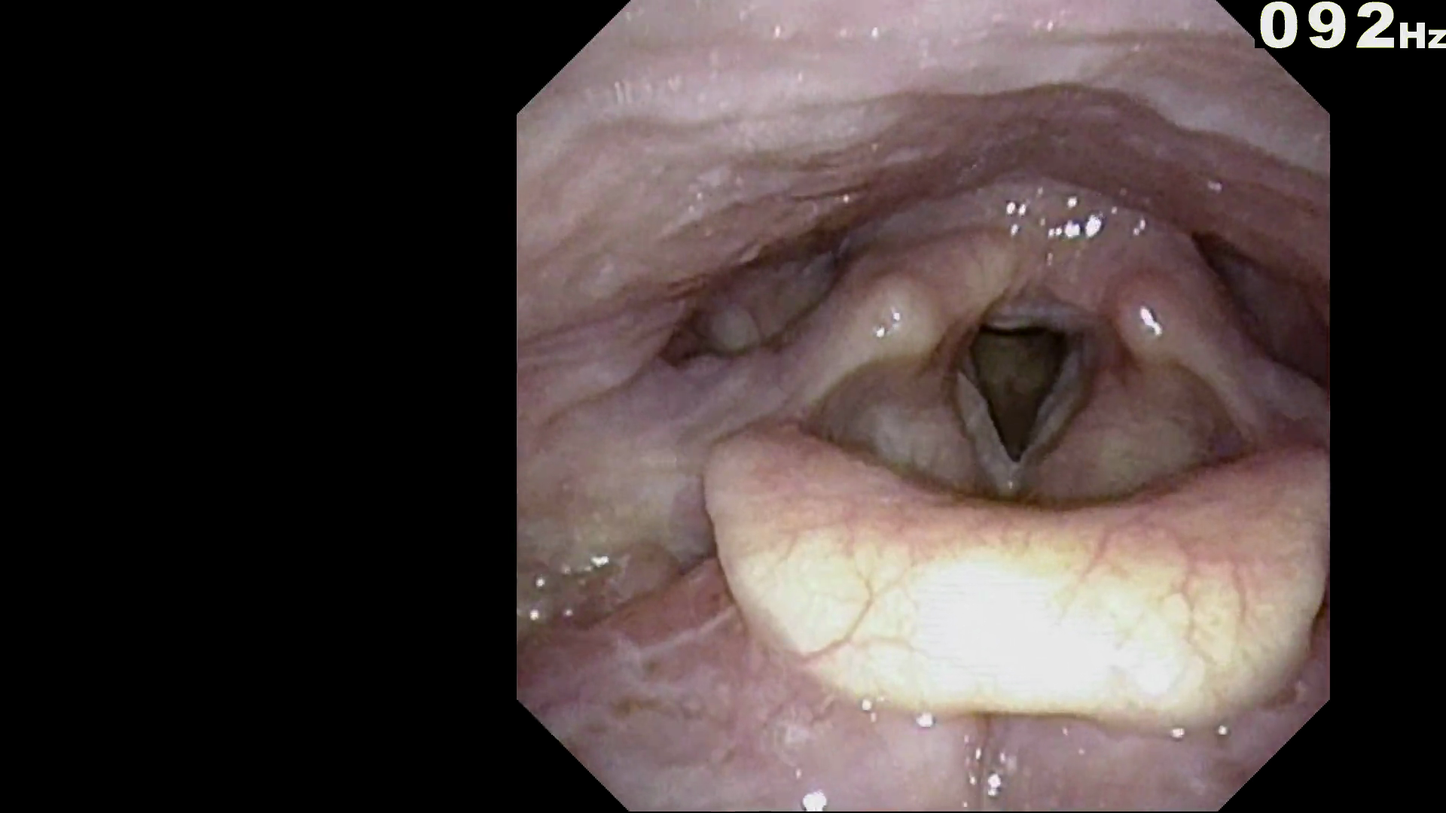epiglottis: (693, 416, 1311, 702)
trachea: (928, 289, 1108, 500)
